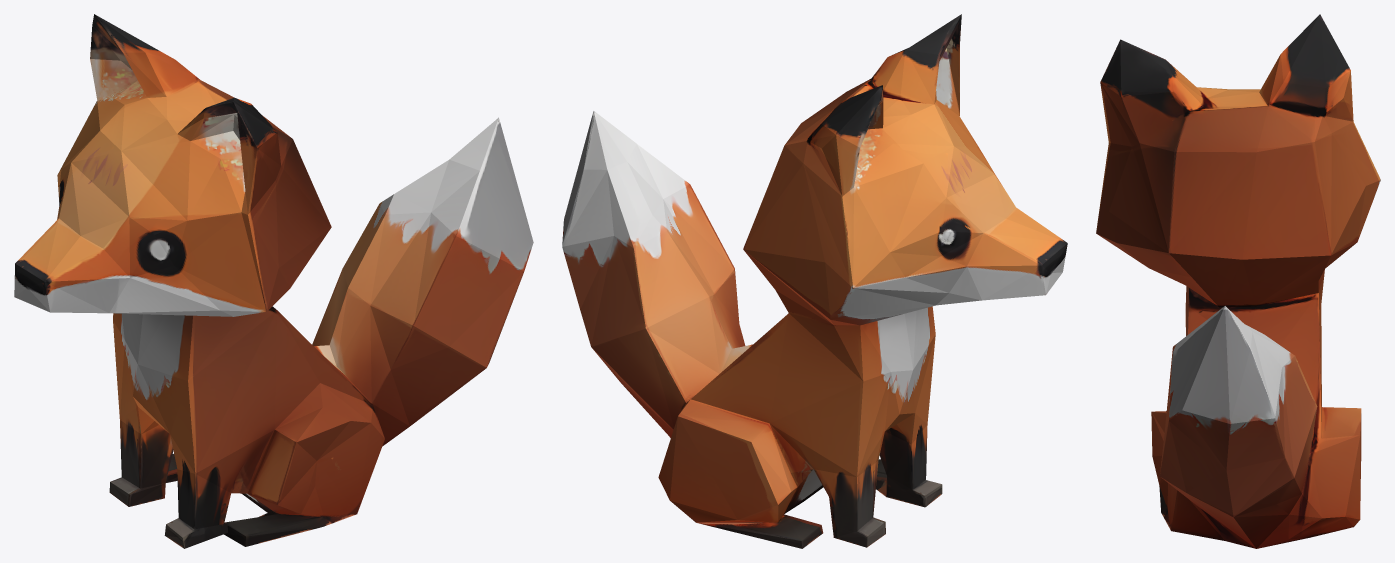
The picture shows the model from 3 angles, left to right: view 1: azimuth 30°, elevation 25°; view 2: azimuth 150°, elevation 25°; view 3: azimuth 270°, elevation 25°; orthographic projection. The views are drawn at different scales.
Parts seen in each view (by area): view 1: Figure; view 2: Figure; view 3: Figure.
Boxes of the visible parts, left/top/right/bottom form: Figure: left=14, top=14, right=533, bottom=548; Figure: left=562, top=14, right=1067, bottom=548; Figure: left=1096, top=14, right=1380, bottom=548.
Size of the model in its own units: 0.5187 by 0.4755 by 0.2807.
Materials: 1 (1 with a texture image).
